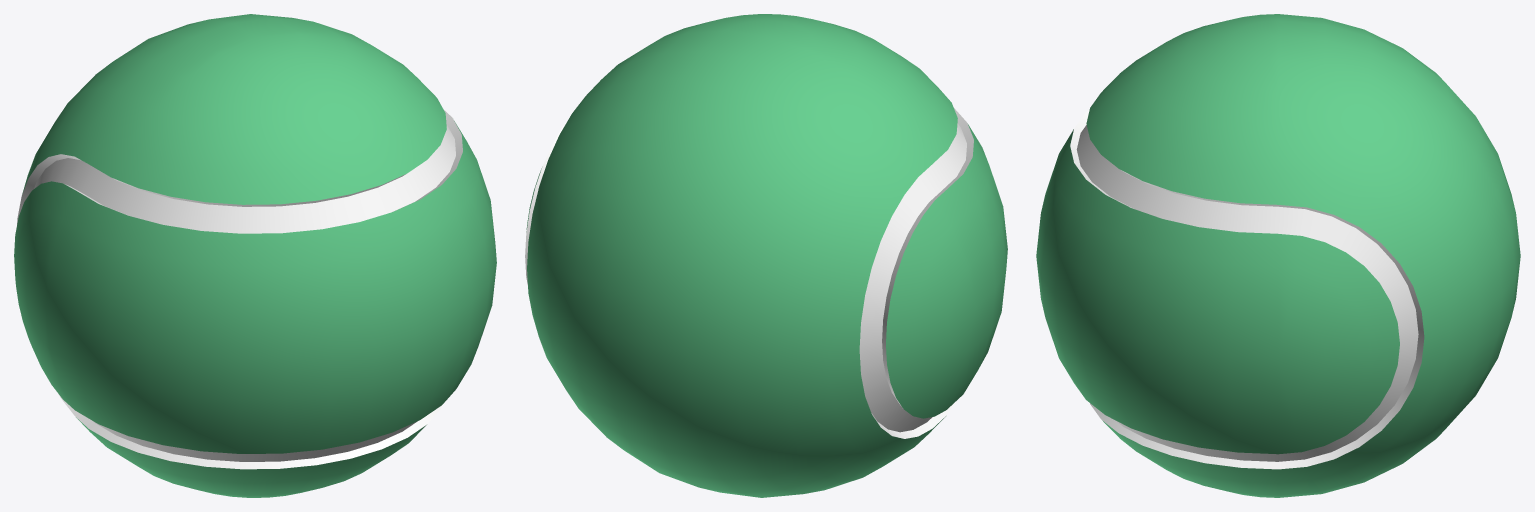
Rendered from Тенис.glb.
3 renders of one model, left to right at view 1: azimuth 30°, elevation 25°; view 2: azimuth 150°, elevation 25°; view 3: azimuth 270°, elevation 25°, orthographic.
Visible parts, largest first — view 1: Тенис; view 2: Тенис; view 3: Тенис.
Part boxes in pixels (<box>): Тенис: <box>14,14,496,497</box>; Тенис: <box>525,14,1007,497</box>; Тенис: <box>1036,14,1520,497</box>.
Bounding box in the file's own units: 2 × 2 × 2.
1 material, 1 textured.
